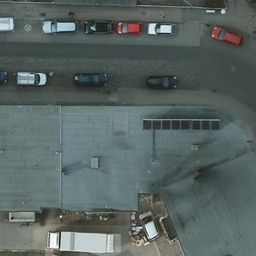car: (138, 210, 161, 242), (212, 26, 244, 48), (75, 72, 108, 89), (42, 19, 77, 35), (16, 71, 46, 88), (148, 75, 177, 92), (147, 21, 181, 35), (118, 20, 142, 37), (86, 20, 114, 34), (0, 68, 7, 83)
van: (0, 16, 13, 35)
